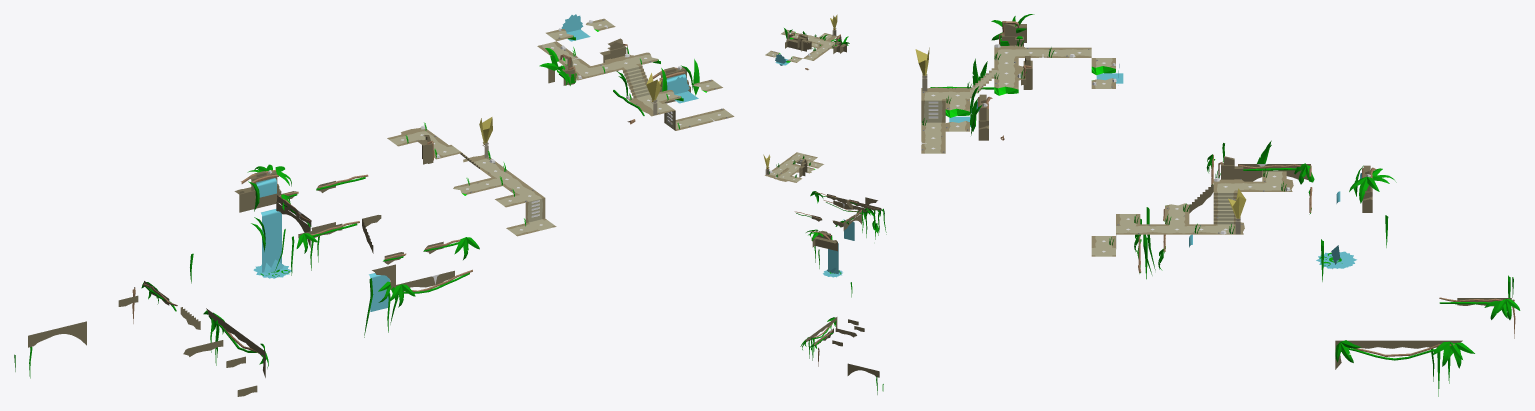
The picture shows the model from 3 angles, left to right: view 1: azimuth 30°, elevation 25°; view 2: azimuth 150°, elevation 25°; view 3: azimuth 270°, elevation 25°; orthographic projection. The views are drawn at different scales.
Parts seen in each view (by area): view 1: polySurface9392; view 2: polySurface9392; view 3: polySurface9392.
Boxes of the visible parts, x1,y1,x2,y2 form: polySurface9392: (14,14,734,396); polySurface9392: (765,28,886,394); polySurface9392: (921,14,1520,396).
Bounding box in the file's own units: 2255 × 2068 × 2483.
